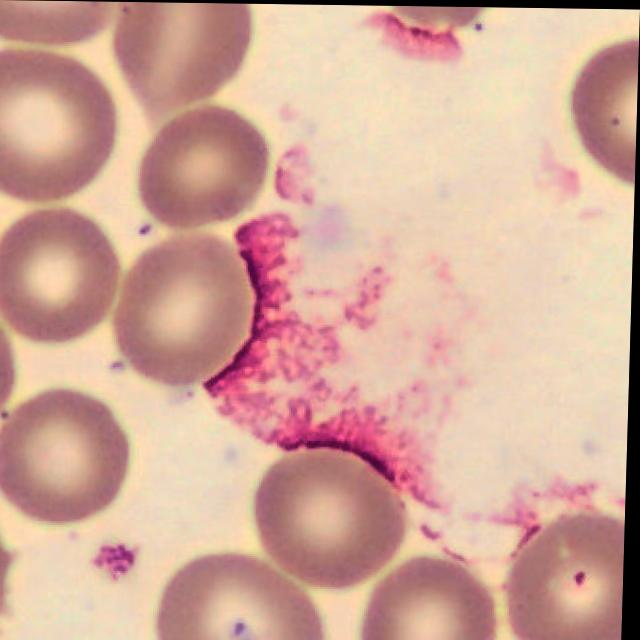Artefato: (209, 215, 442, 503)
